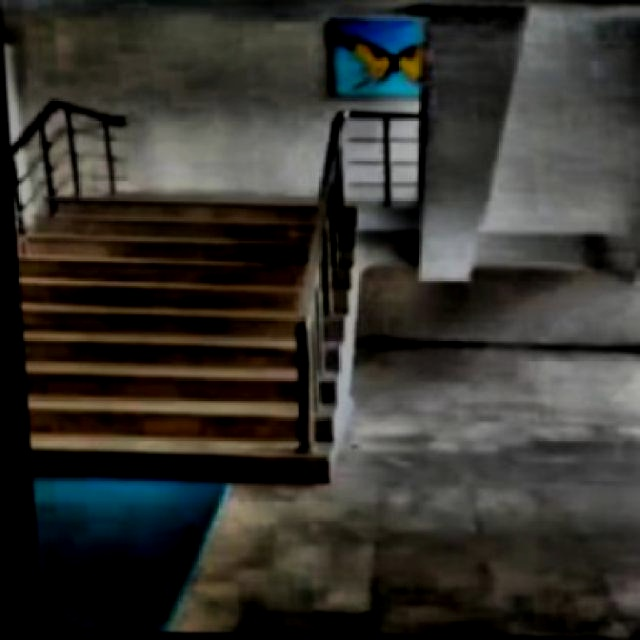stair: (12, 191, 383, 488)
